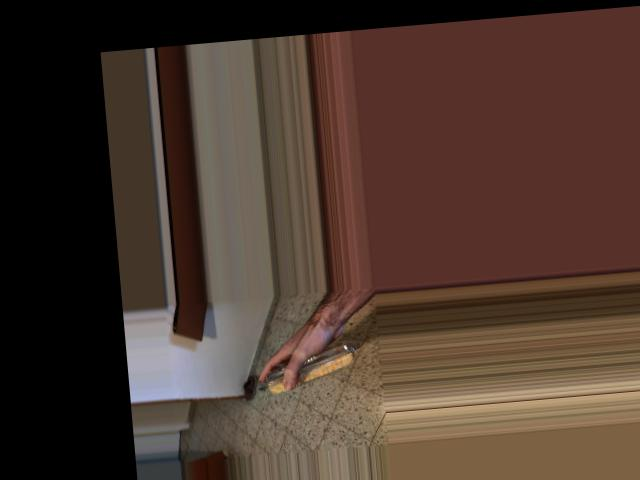cheese: (249, 319, 348, 407)
